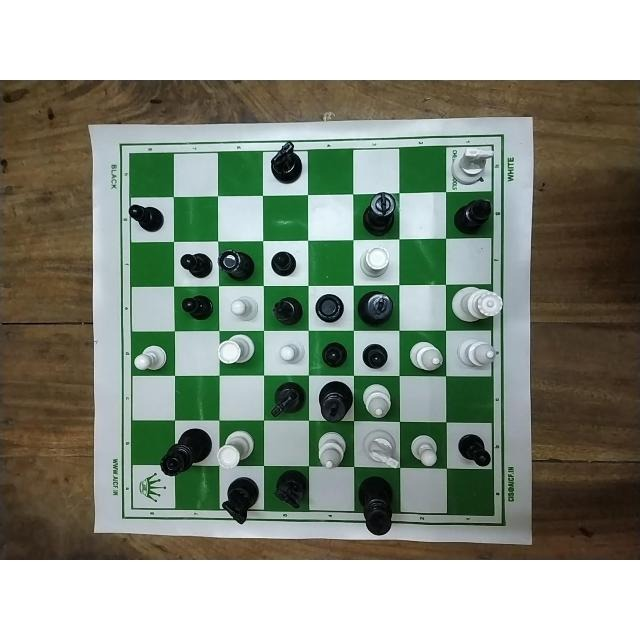black-bishop: (453, 195, 493, 234), (270, 295, 302, 325)
black-king: (358, 475, 397, 535), (363, 189, 398, 236), (316, 380, 352, 422), (356, 289, 394, 325)
black-knight: (221, 475, 259, 527), (272, 467, 309, 512), (266, 139, 301, 184), (270, 380, 304, 418)
black-pawn: (454, 432, 492, 467), (128, 204, 164, 232), (180, 252, 214, 280), (181, 294, 214, 320), (361, 341, 389, 369), (268, 249, 297, 276), (319, 342, 349, 368)
black-queen: (158, 427, 213, 477)
black-rook: (217, 248, 257, 283), (312, 292, 343, 322)
white-bishop: (456, 336, 498, 367), (359, 380, 391, 419), (315, 431, 347, 470), (406, 340, 443, 373)
white-knight: (449, 145, 494, 187), (359, 428, 400, 470)
white-pawn: (406, 432, 438, 467), (132, 342, 165, 371), (225, 295, 259, 321), (277, 339, 307, 364)
white-queen: (450, 285, 504, 323)
white-rook: (214, 428, 253, 469), (215, 332, 256, 368), (358, 244, 389, 280)
